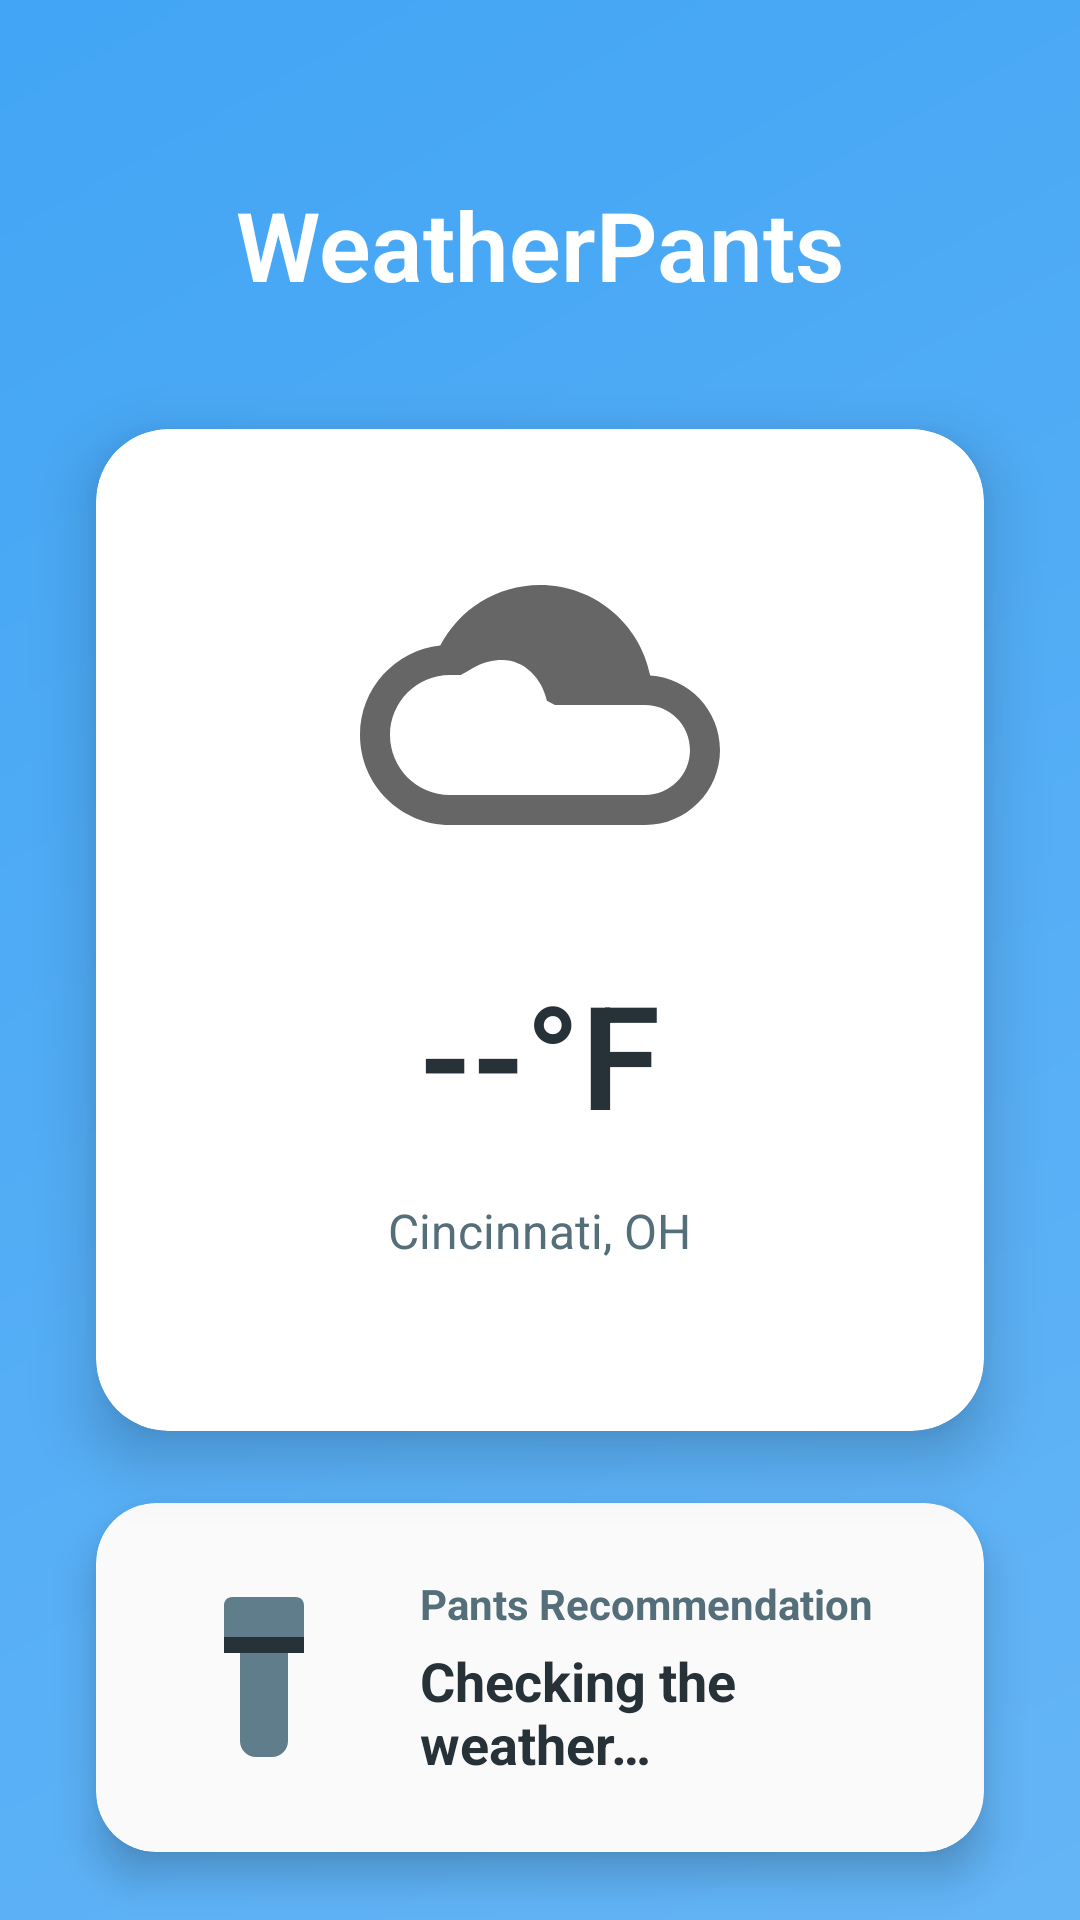

Screen size 1080 × 1920. Icon name, then its box in pixels as (x1, y1, x2, y2):
Pants Advice Icon: (224, 1597, 304, 1757)
